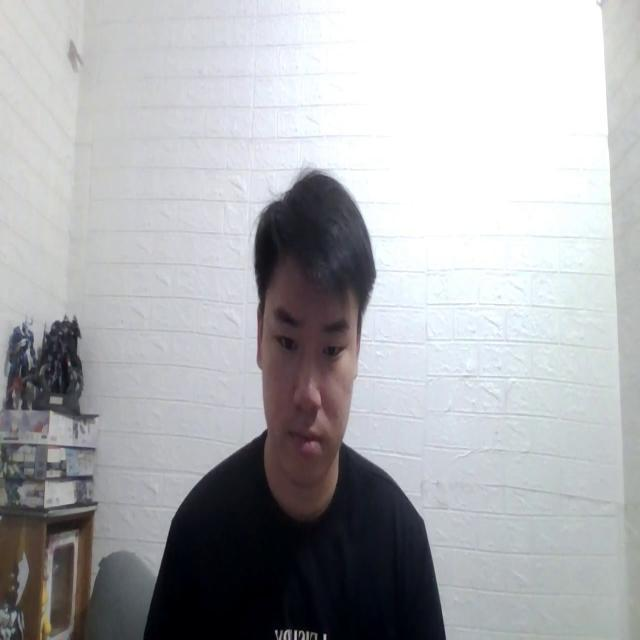student: (131, 166, 445, 640)
